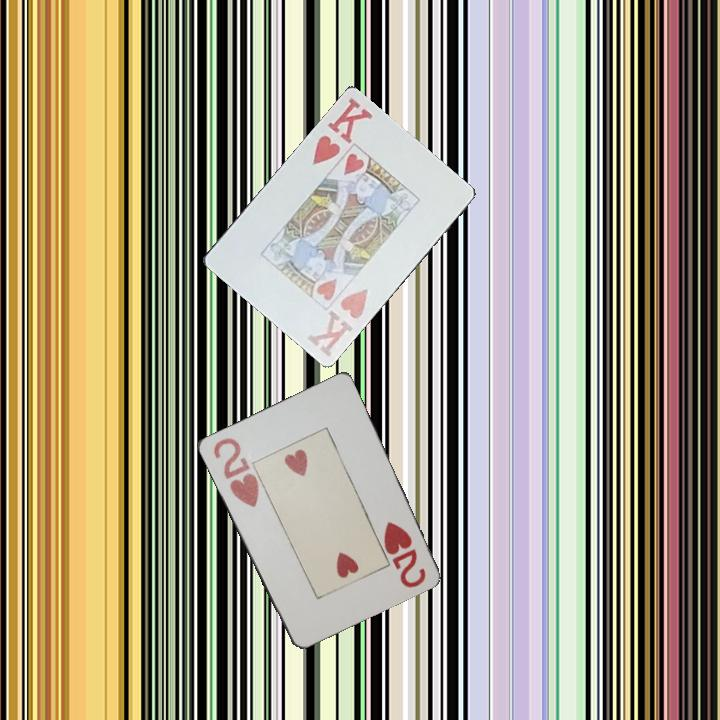2h: (209, 434, 262, 510), (380, 518, 428, 591)
Kh: (303, 284, 372, 359), (308, 93, 376, 168)
